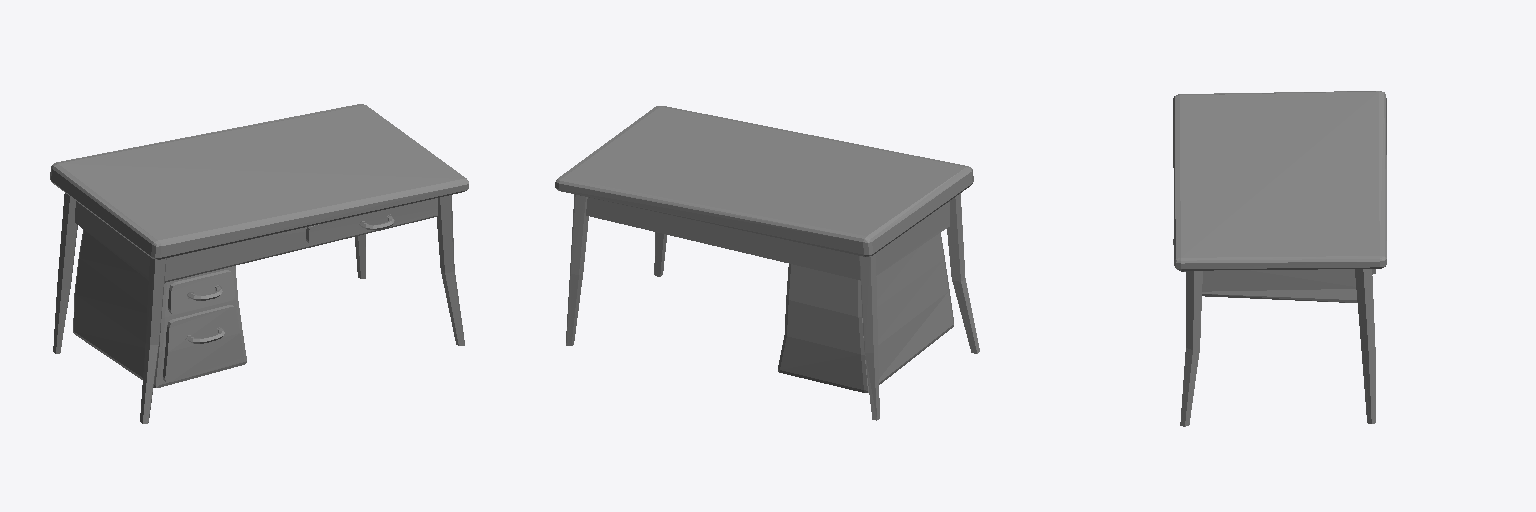
The model's file is Desk.obj.
3 renders of one model, left to right at view 1: azimuth 30°, elevation 25°; view 2: azimuth 150°, elevation 25°; view 3: azimuth 270°, elevation 25°, orthographic.
Parts seen in each view (by area): view 1: Desk; view 2: Desk; view 3: Desk.
Boxes of the visible parts, box(x1,y1,x2,y2) form: Desk: box(50, 104, 468, 423); Desk: box(555, 106, 979, 420); Desk: box(1173, 91, 1386, 426).
Size of the model in its own units: 163 by 88.04 by 92.77.